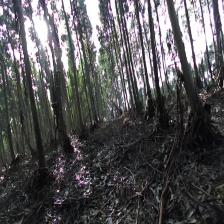trunk: (19, 25, 47, 169), (168, 5, 202, 113), (67, 28, 86, 134), (50, 47, 66, 134), (150, 32, 166, 114), (137, 12, 150, 88)
